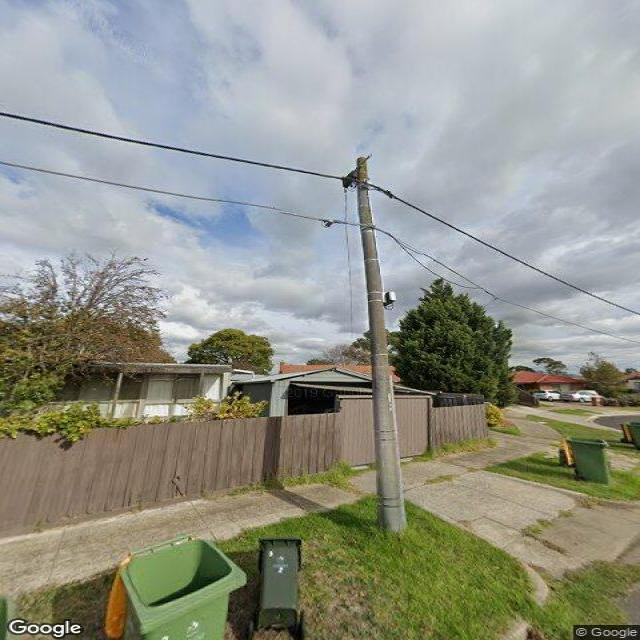concrete-pole: (358, 154, 408, 534)
